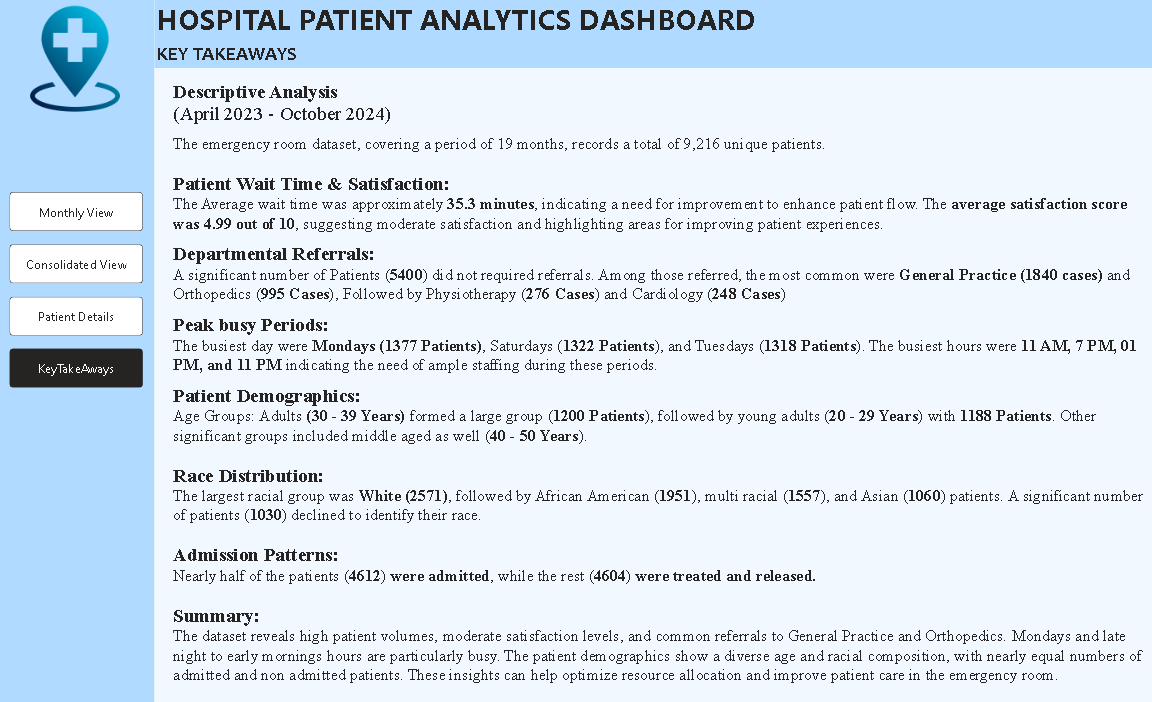

This screenshot's page, from the dashboard's own definition file:
{"tool":"powerbi","page":{"name":"KeyTakeAways","canvas":[2300,1400],"ordinal":3},"visuals":[{"type":"shape","box":[9.9,0,310,1400.5],"z":0},{"type":"shape","box":[320.5,0,1980,140],"z":1000},{"type":"textbox","box":[320.5,0,1511.5,101.1],"z":2000},{"type":"textbox","box":[300.8,83.8,325.5,56.7],"z":3000},{"type":"image","box":[54.2,9.9,219.4,224.4],"z":4000},{"type":"textbox","box":[352.6,140.5,1947.9,1260],"z":5000},{"type":"pageNavigator","box":[34.5,384.6,263.8,387.1],"z":6000}]}

Visuals, with their boxes on the page's 2300x1400 design canvas (x1, y1, x2, y2). These are canvas units, not pixel positions in the 1152x702 screenshot, which may show the page scaled, cropped or inside an application window:
shape: detection(10, 0, 320, 1400)
shape: detection(320, 0, 2300, 140)
textbox: detection(320, 0, 1832, 101)
textbox: detection(301, 84, 626, 140)
image: detection(54, 10, 274, 234)
textbox: detection(353, 140, 2300, 1400)
pageNavigator: detection(34, 385, 298, 772)
